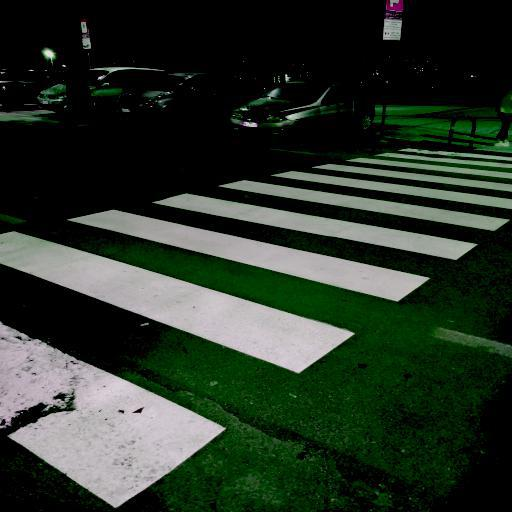crosswalk: (60, 176, 482, 312)
